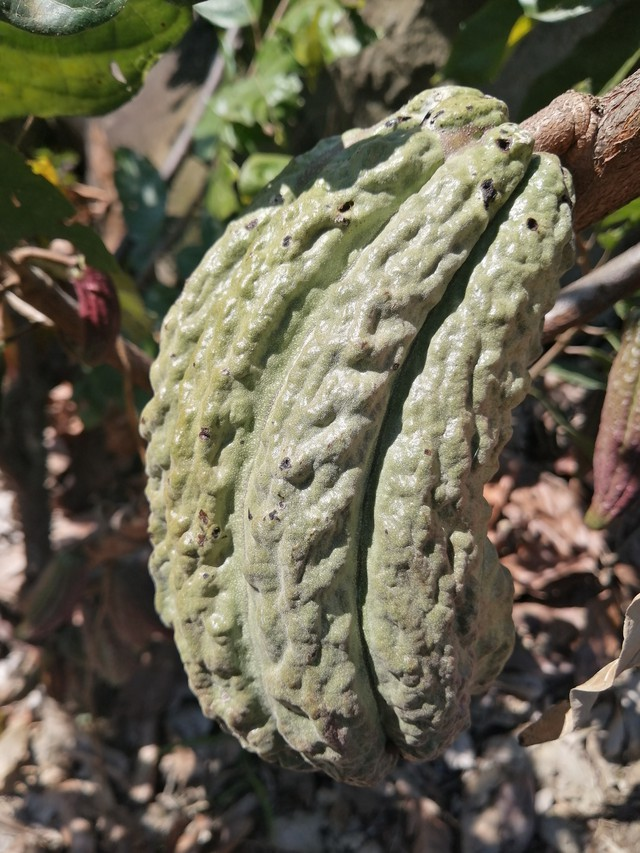Health: (118, 73, 600, 799)
